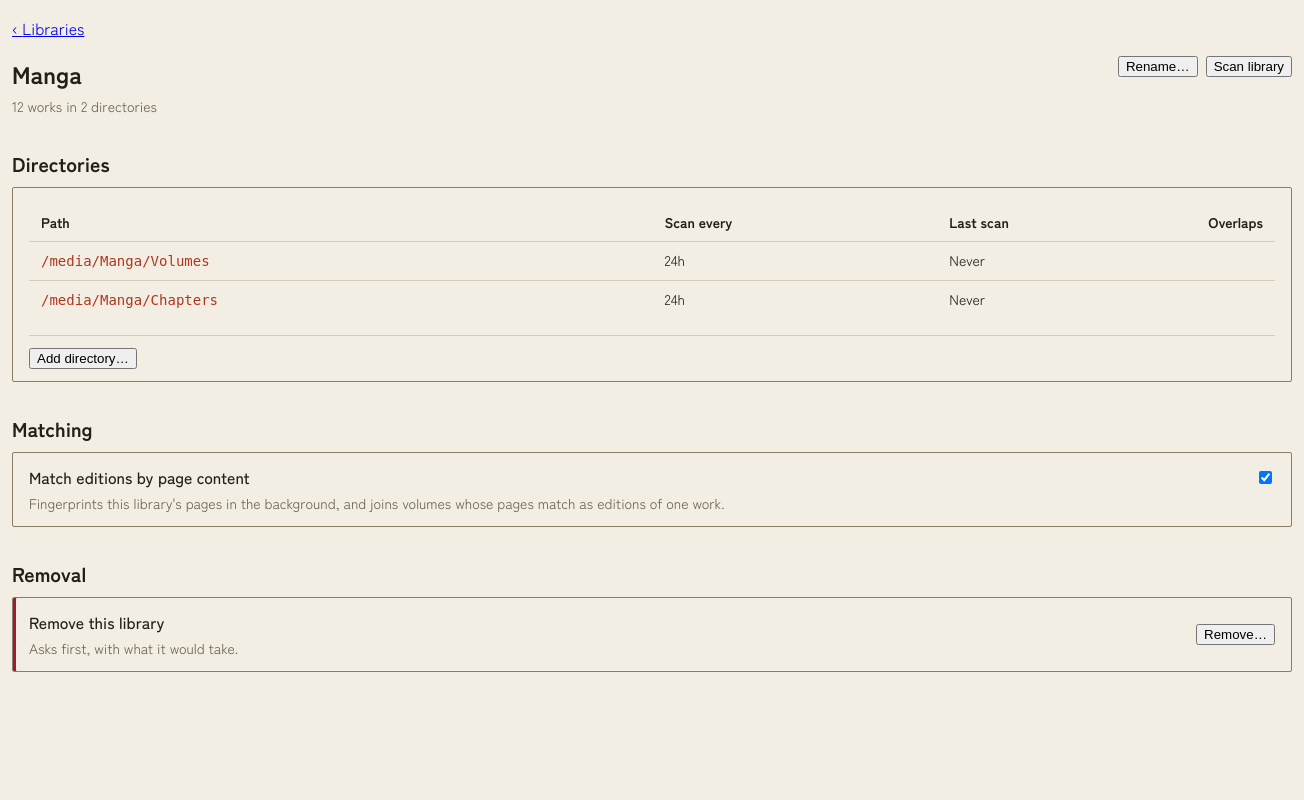
Test: LibraryPage › opens the rename in the header’s title, nothing between the header and Directories, and the removal’s confirm inside the removal box
Click the button "Rename…" at [1158, 66], box [1118,56,1198,77]
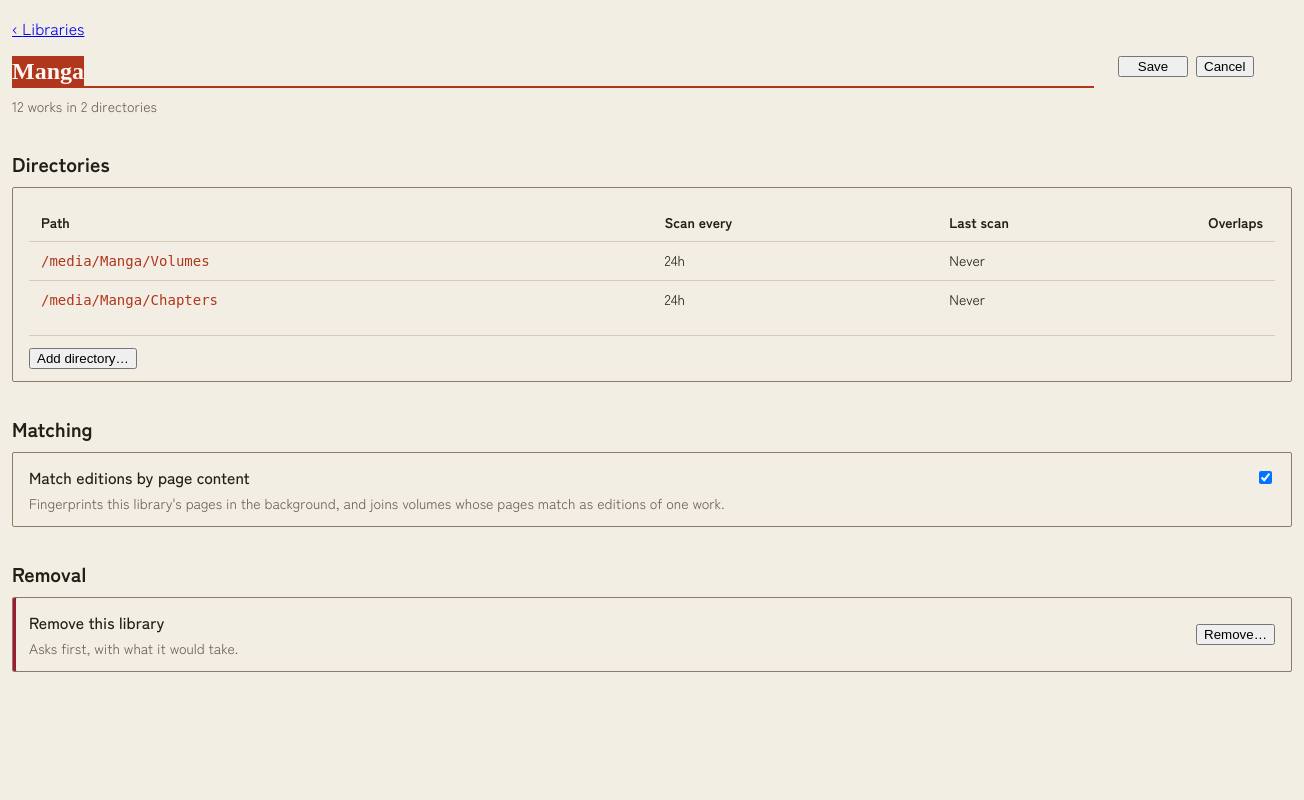
Click the button named "remove-library" at [1236, 634], box [1196,624,1275,645]
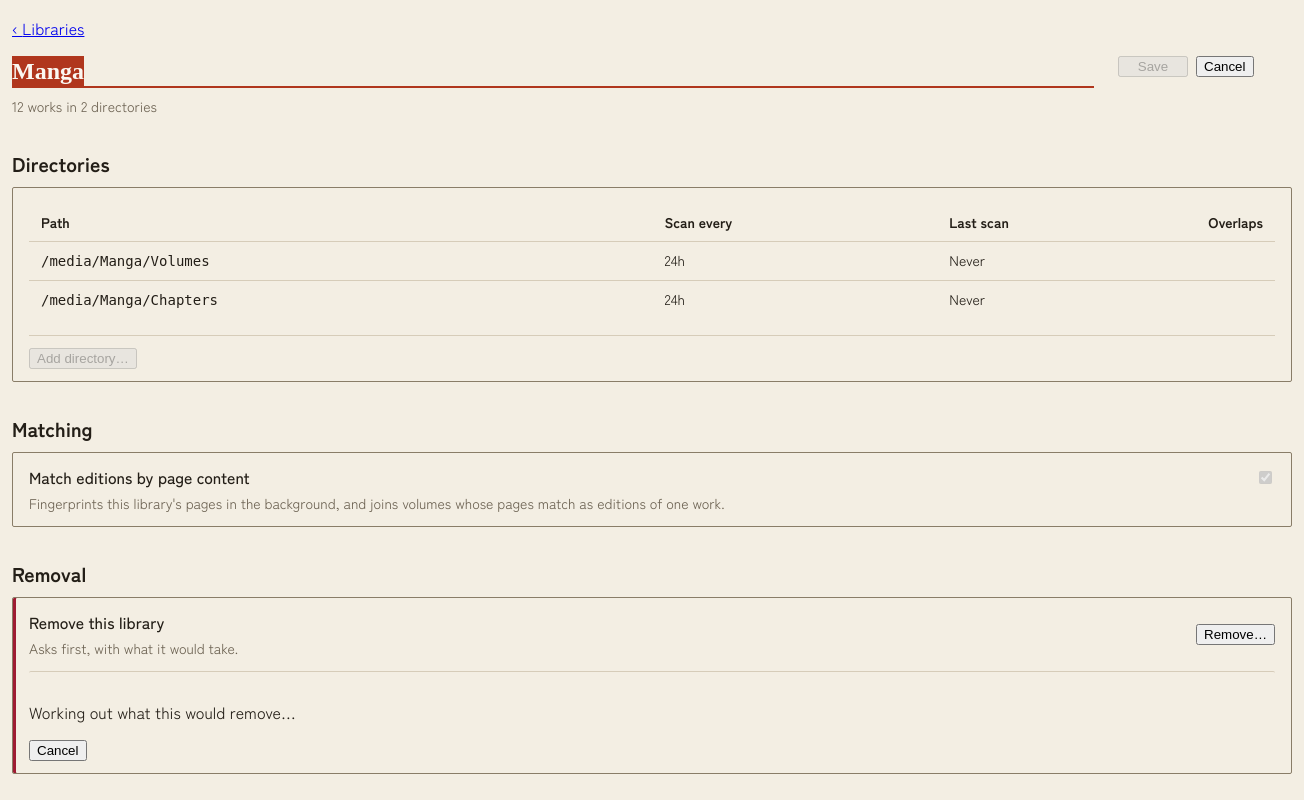
Result: the element with class "remove-library" is shown at [29,671,1275,773]
